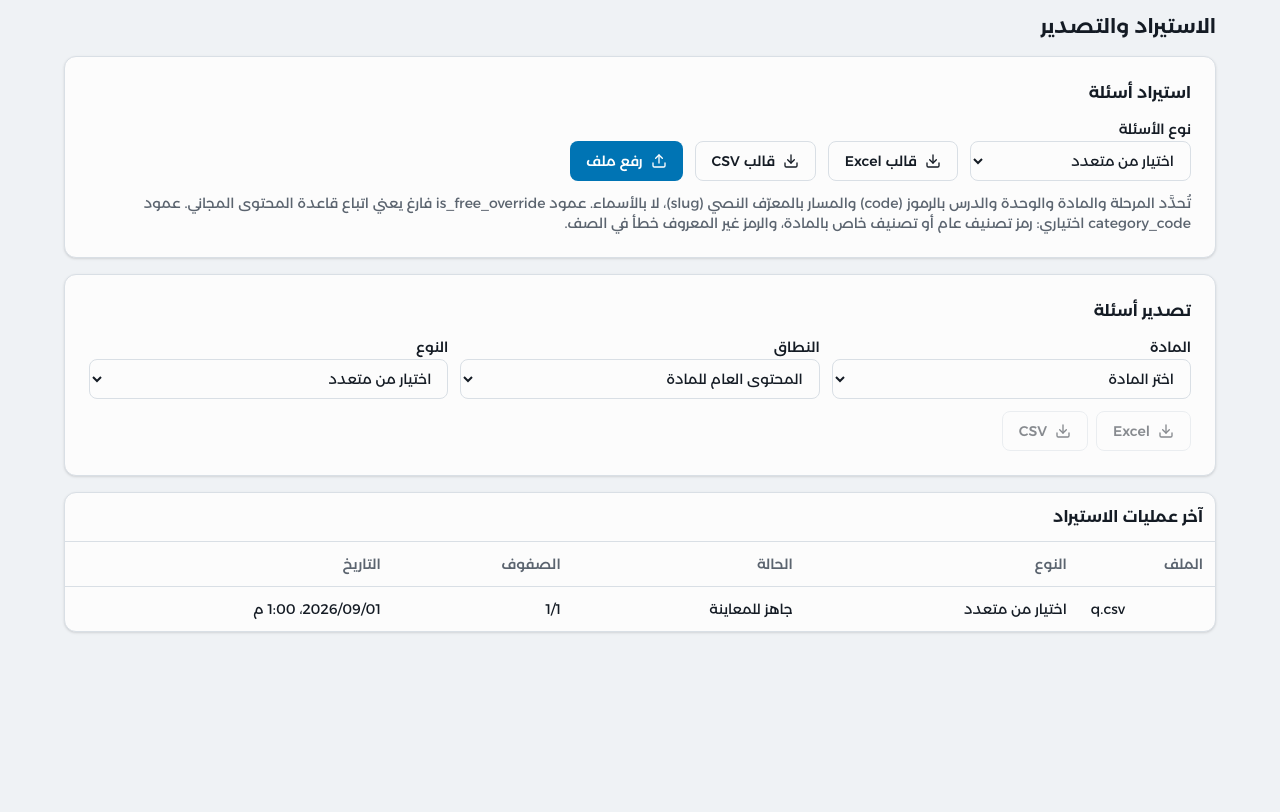
Test case: import and export (§27) › confirms a clean file as published and reports the summary
Click the text "q.csv" at (1108, 609), box x1=1079 y1=586 x2=1215 y2=631
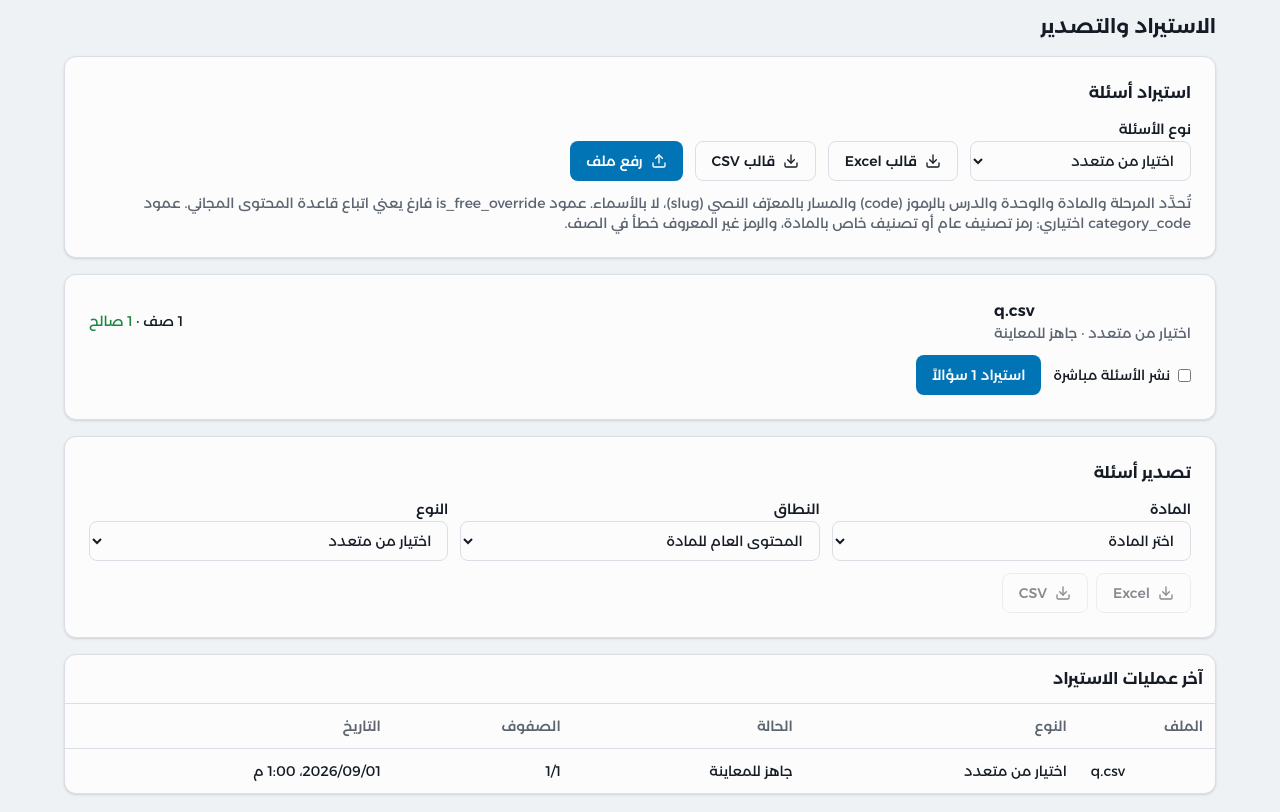
Click the checkbox labelled "نشر الأسئلة مباشرة" at (1184, 375), box x1=1178 y1=368 x2=1191 y2=382
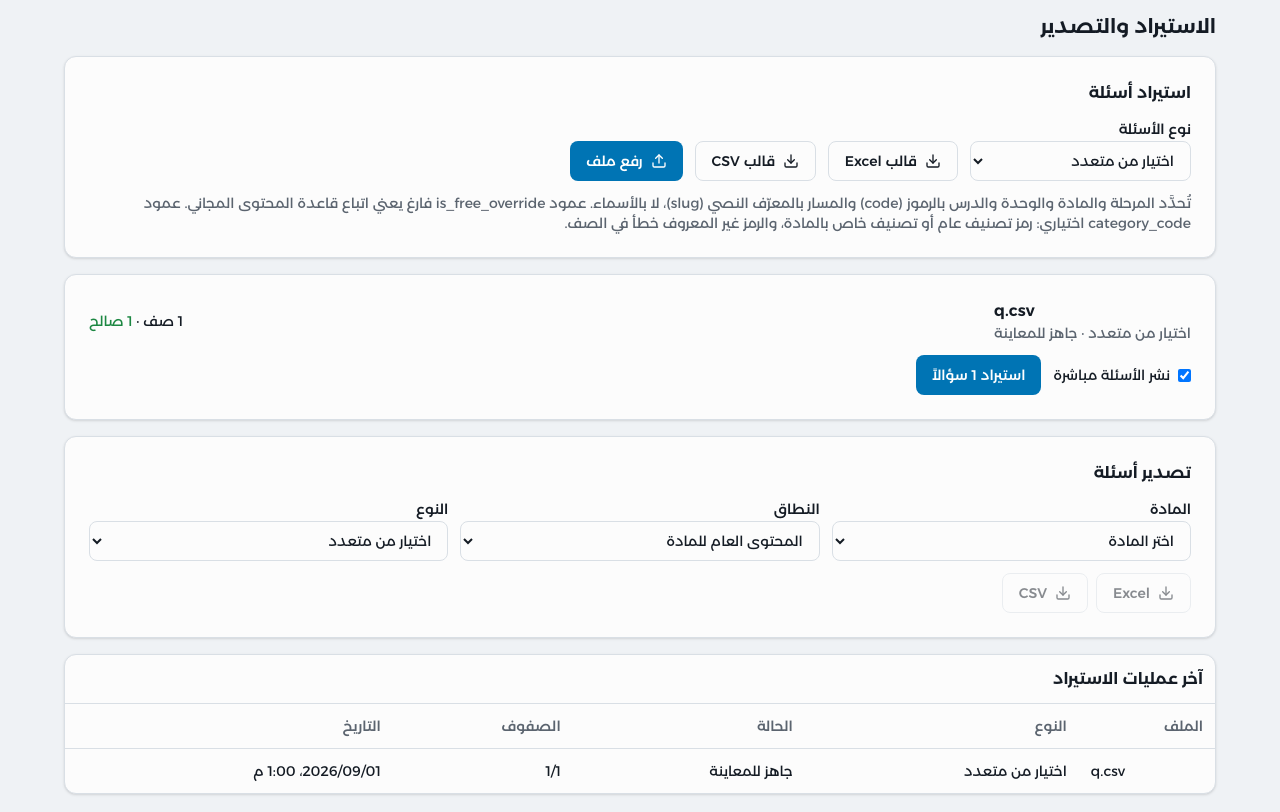
Click the button "استيراد 1 سؤالاً" at (979, 375), box x1=916 y1=355 x2=1042 y2=395
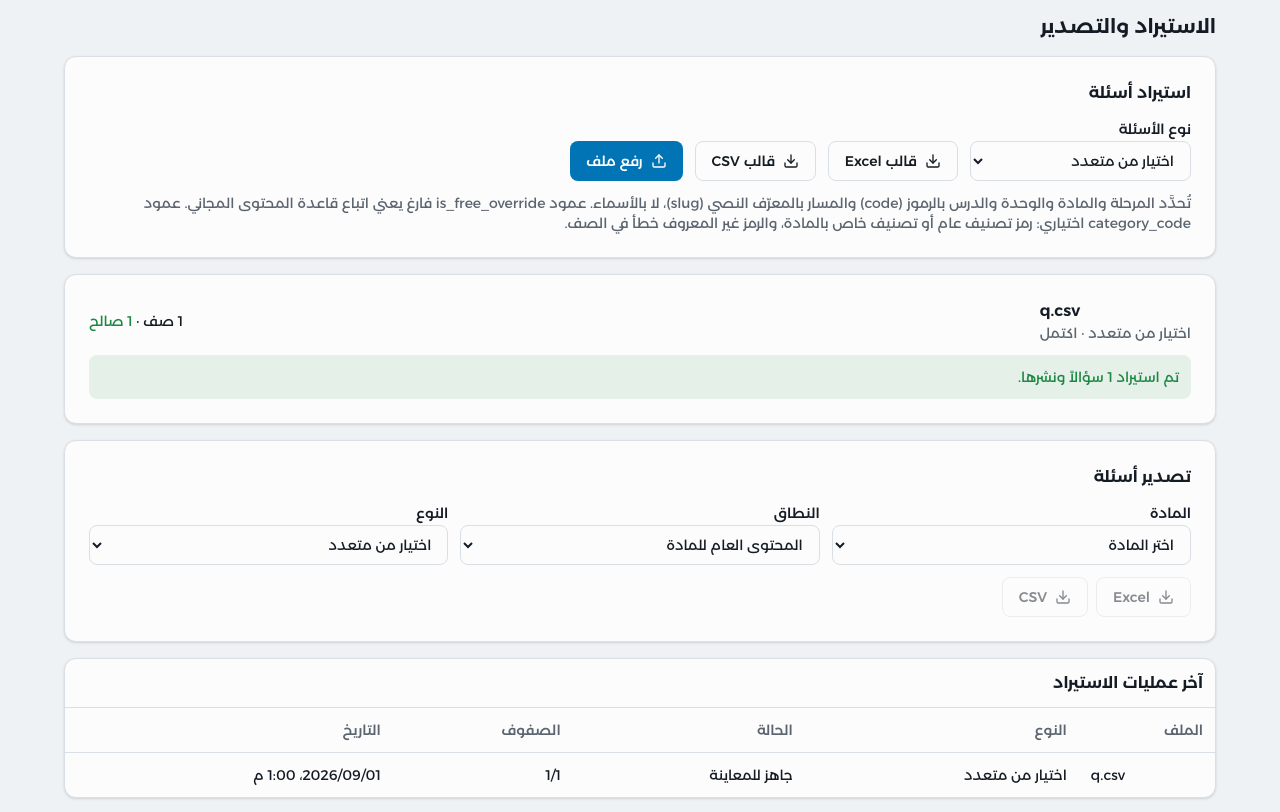
Check: the text "تم استيراد 1 سؤالاً ونشرها." is shown, box x1=89 y1=355 x2=1191 y2=399
